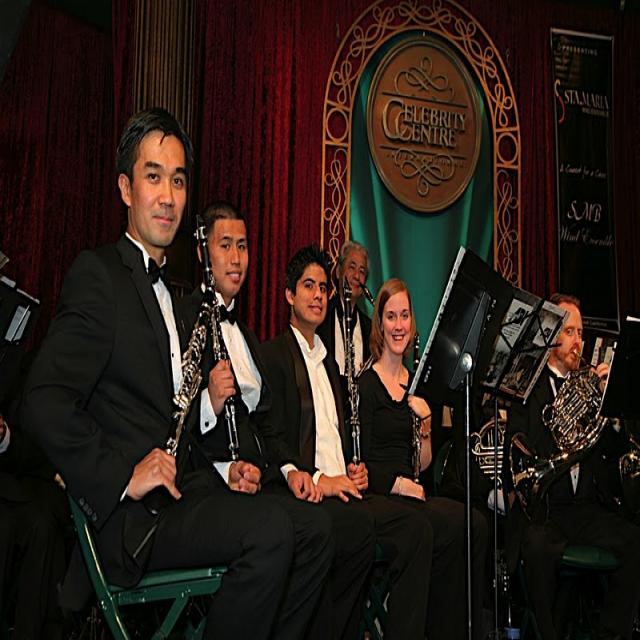clarinet: (150, 267, 217, 519), (194, 208, 242, 473), (340, 269, 370, 493), (410, 328, 427, 484)
